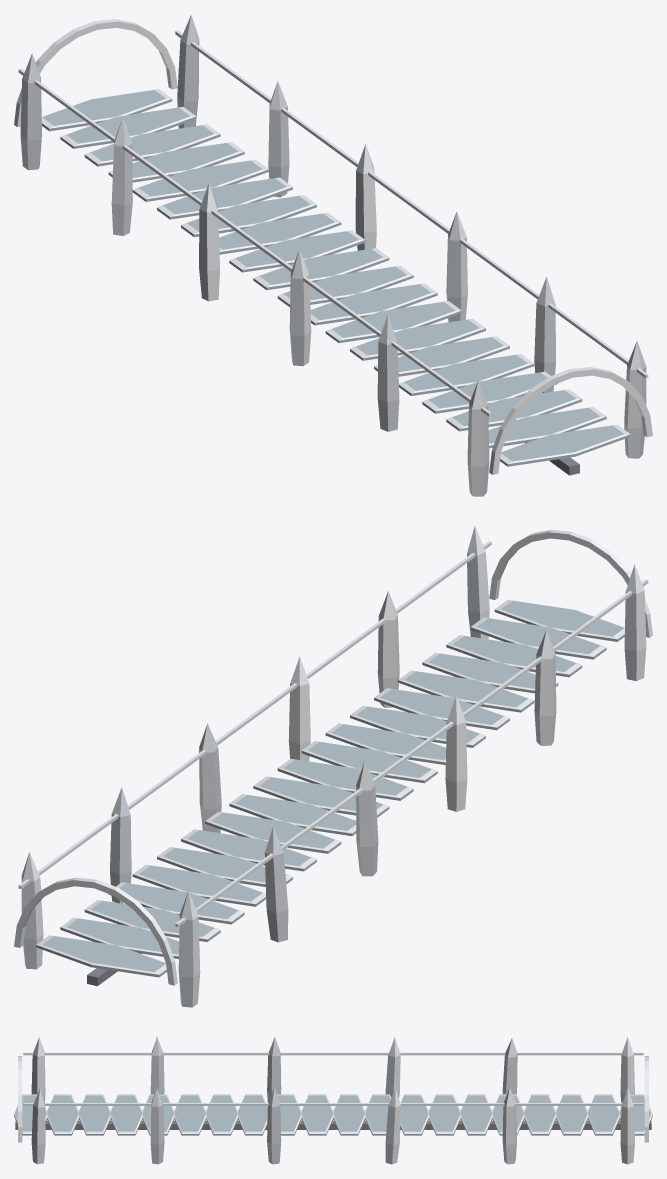
Rendered from CrystalBridge.obj.
3 views of the same model, one above another, from view 1: azimuth 30°, elevation 25°; view 2: azimuth 150°, elevation 25°; view 3: azimuth 270°, elevation 25° (orthographic). The views are drawn at different scales.
Bounding box in the file's own units: 8.48 × 5.29 × 40.18.
